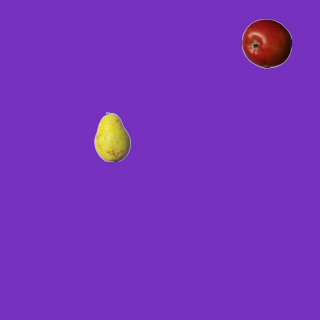Apple Braeburn: (241, 18, 291, 68)
Pear Monster: (87, 111, 137, 161)
